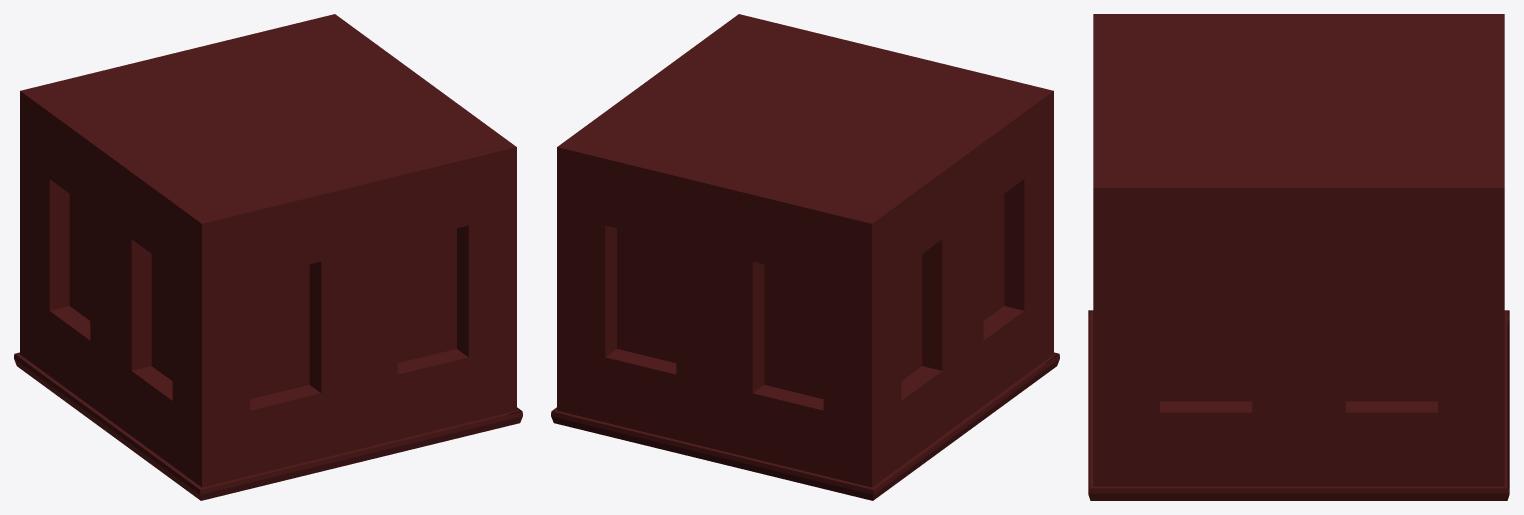
Rendered from square_mid_2.glb.
The picture shows the model from 3 angles, left to right: view 1: azimuth 30°, elevation 25°; view 2: azimuth 150°, elevation 25°; view 3: azimuth 270°, elevation 25°; orthographic projection. The views are drawn at different scales.
Parts seen in each view (by area): view 1: square_mid_2; view 2: square_mid_2; view 3: square_mid_2.
Boxes of the visible parts, x1,y1,x2,y2 form: square_mid_2: [14, 14, 522, 500]; square_mid_2: [551, 14, 1059, 500]; square_mid_2: [1088, 14, 1509, 500].
Size of the model in its own units: 5.12 by 4.18 by 5.12.
